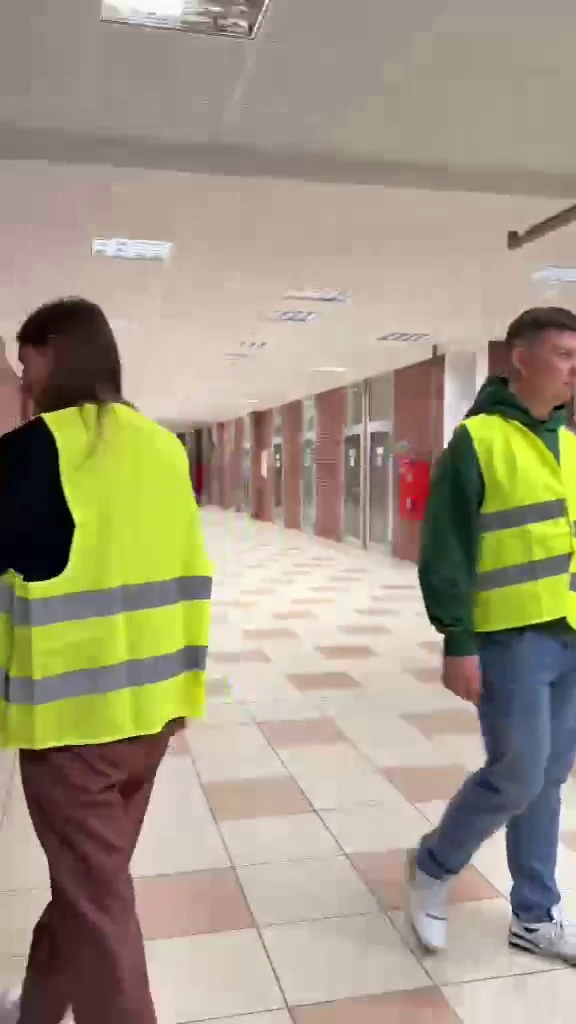vest: (0, 295, 215, 985), (410, 297, 576, 973)
